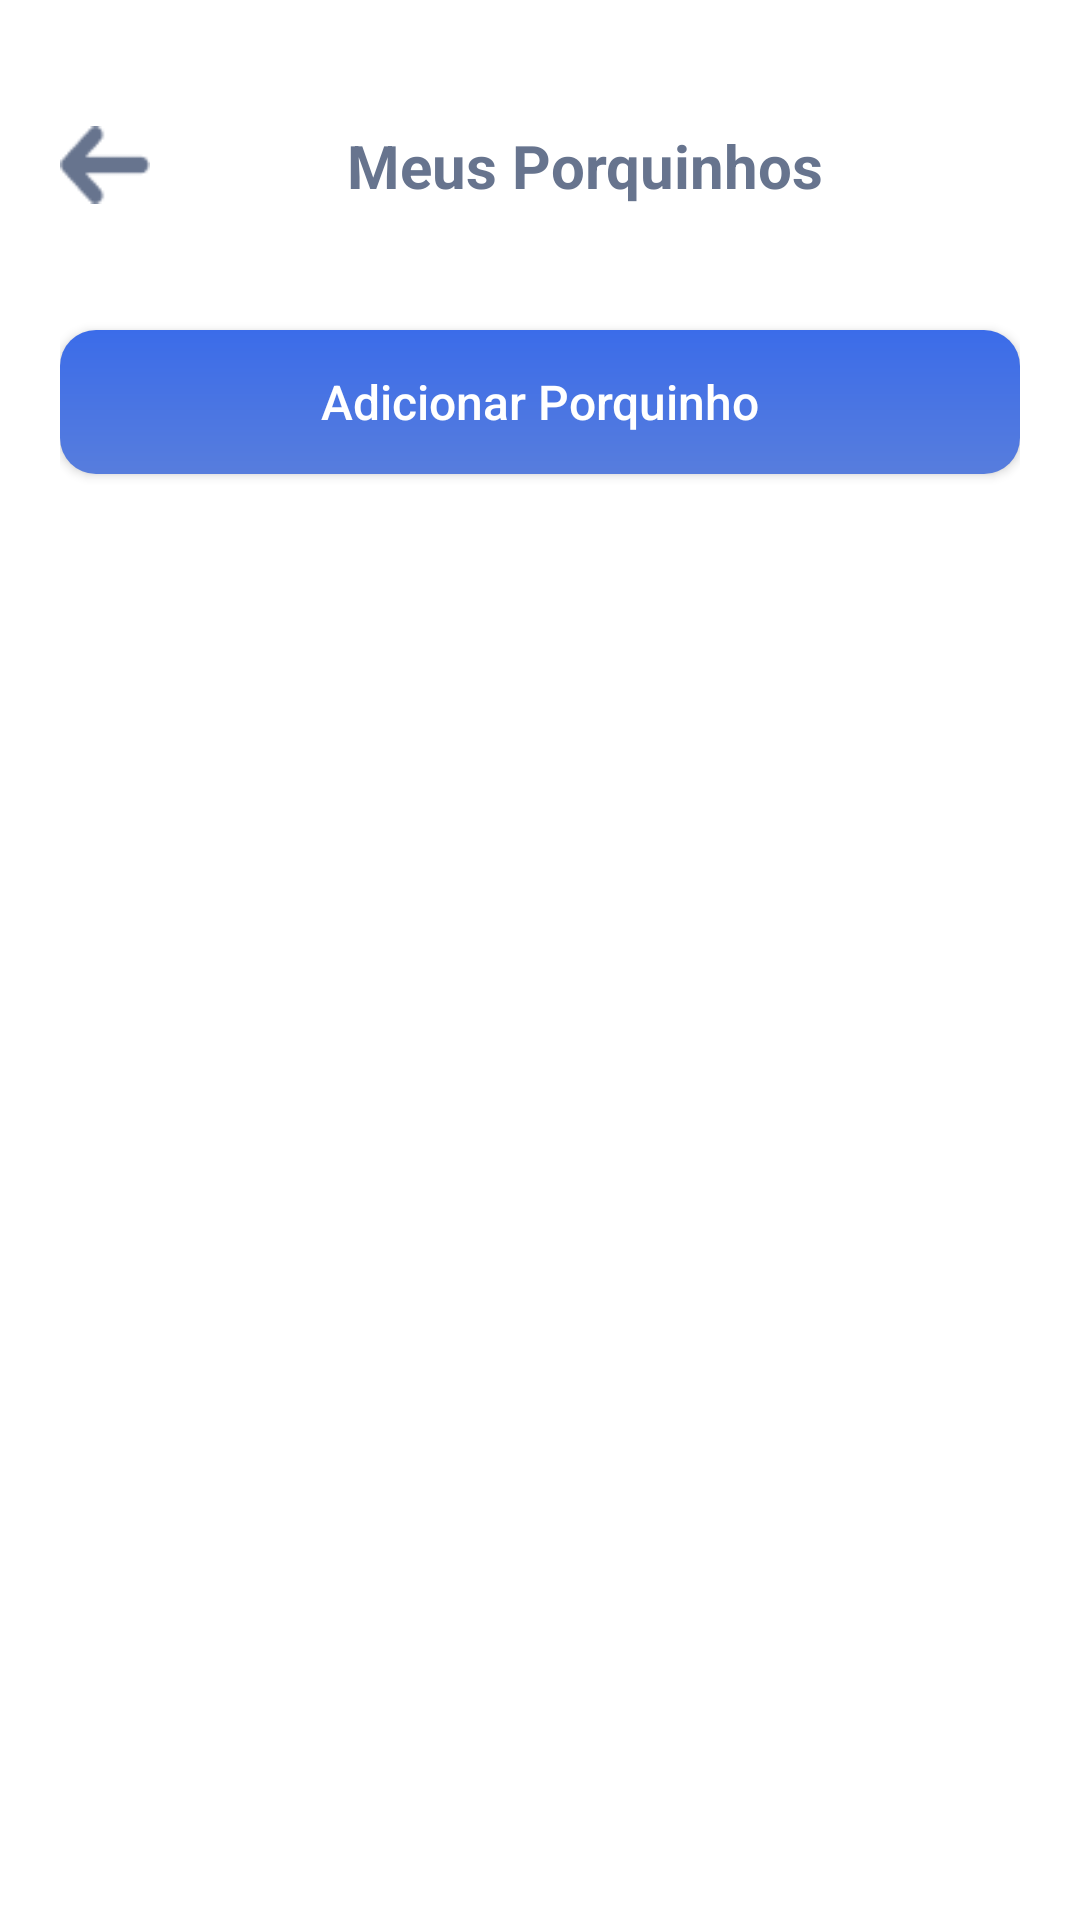

Where icons sit on this 1080px×1920px app screen, as (x1, y1, x2, y2):
arrow left: (60, 126, 150, 204)
